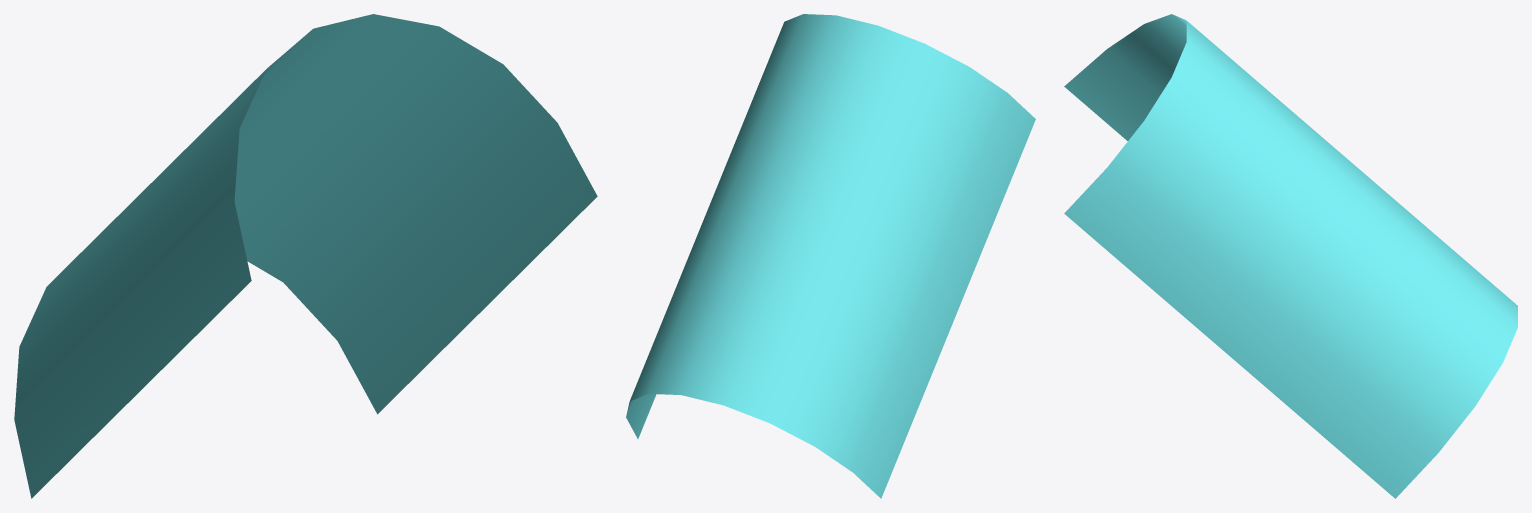
File: Glass.fbx
3 renders of one model, left to right at view 1: azimuth 30°, elevation 25°; view 2: azimuth 150°, elevation 25°; view 3: azimuth 270°, elevation 25°, orthographic. The views are drawn at different scales.
Parts seen in each view (by area): view 1: Glass; view 2: Glass; view 3: Glass.
Boxes of the visible parts, x1,y1,x2,y2 form: Glass: [14, 14, 597, 498]; Glass: [626, 14, 1035, 498]; Glass: [1064, 14, 1517, 498].
Bounding box in the file's own units: 2.66 × 3.95 × 4.02.
